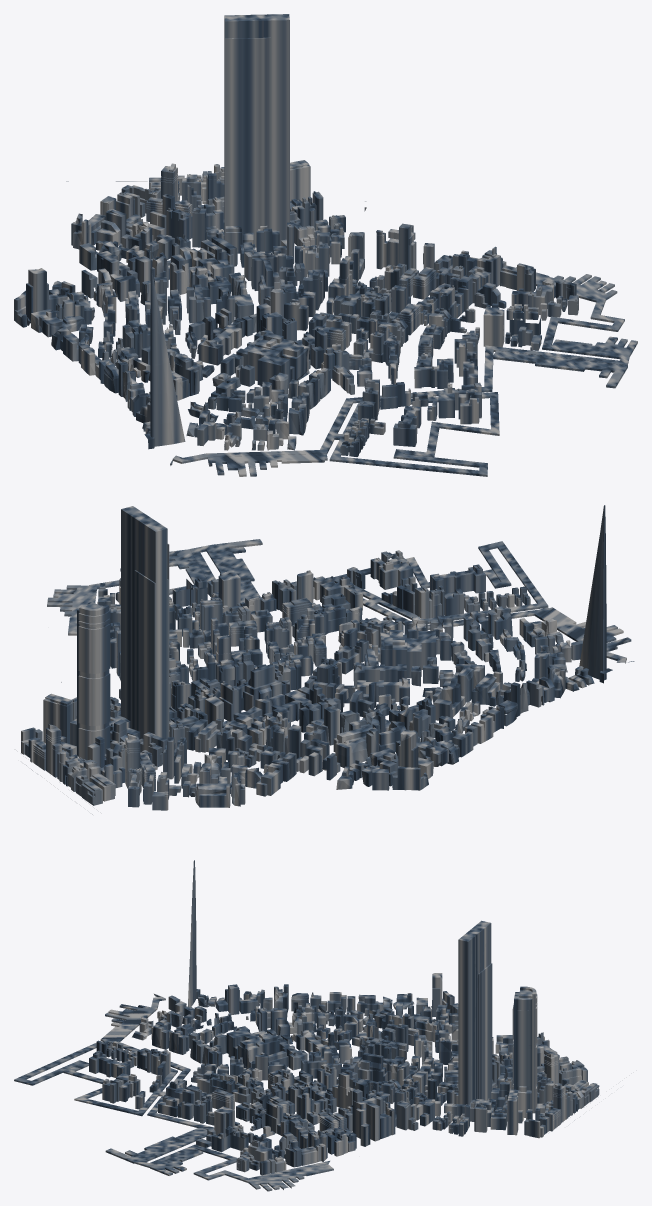
Rendered from Buildings_Close_3.glb.
The picture shows the model from 3 angles, top to bottom: view 1: azimuth 30°, elevation 25°; view 2: azimuth 150°, elevation 25°; view 3: azimuth 270°, elevation 25°; orthographic projection. The views are drawn at different scales.
Parts seen in each view (by area): view 1: world; view 2: world; view 3: world.
Part boxes in pixels (x1,y1,x2,y2): world: (14, 14, 637, 476); world: (21, 505, 634, 814); world: (14, 860, 599, 1191).
Size of the model in its own units: 146775 by 61112 by 197101.
1 material, 1 textured.
